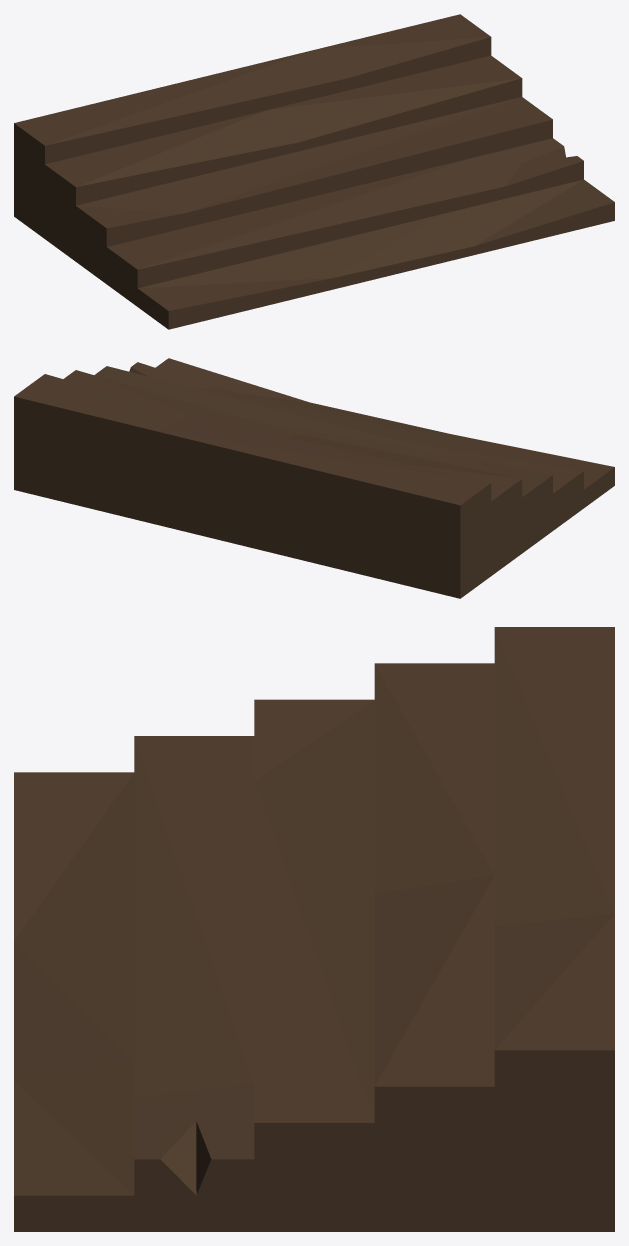
File: Ruin_7_Dark_Brown.fbx
3 renders of one model, top to bottom at view 1: azimuth 30°, elevation 25°; view 2: azimuth 150°, elevation 25°; view 3: azimuth 270°, elevation 25°, orthographic. The views are drawn at different scales.
Visible parts, largest first — view 1: Ruin_7_Dark_Brown; view 2: Ruin_7_Dark_Brown; view 3: Ruin_7_Dark_Brown.
Boxes of the visible parts, x1,y1,x2,y2 form: Ruin_7_Dark_Brown: (14,14,614,329); Ruin_7_Dark_Brown: (14,358,614,598); Ruin_7_Dark_Brown: (14,627,614,1231).
Size of the model in its own units: 500 by 100 by 300.
